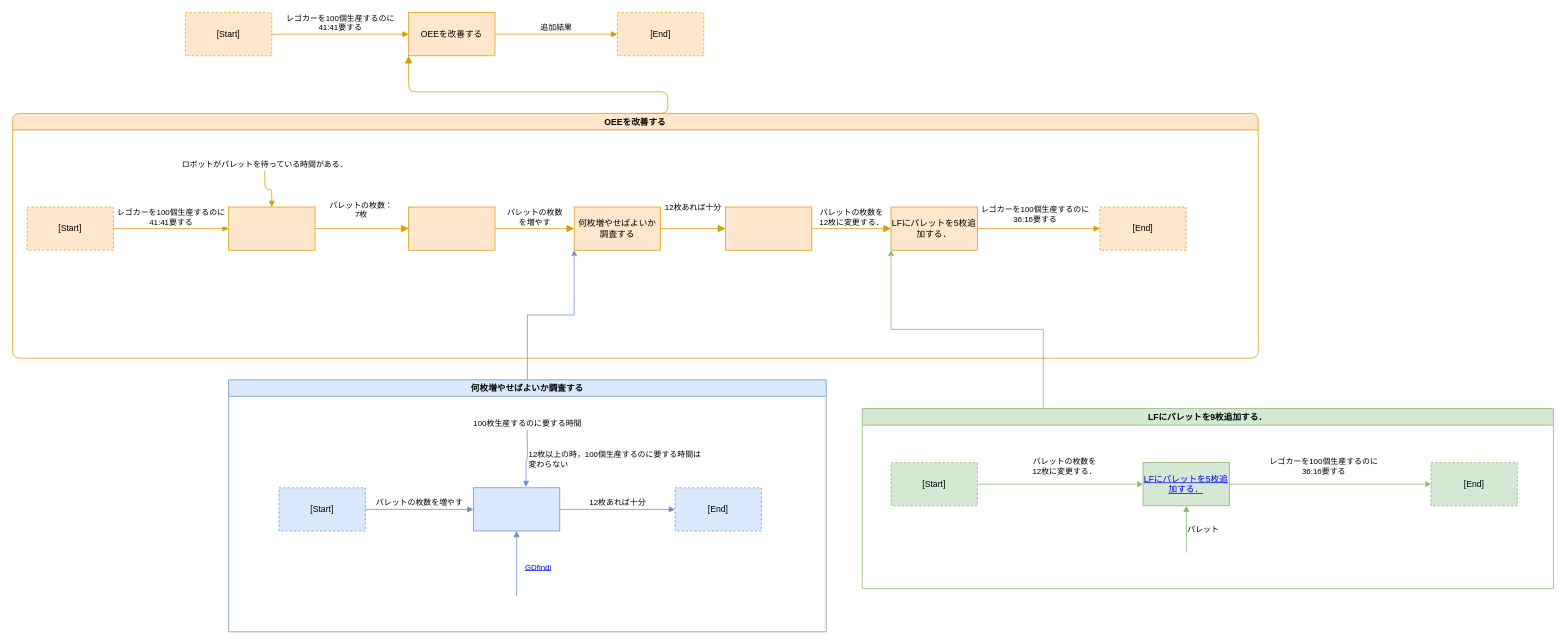
This 1566x644 diagram has some shape labels left out. The shapes that lost their labels are listed below. From the top down, each one's centre as x and y in pixels, then its label:
At point 271,228: "パレットの数を数える".
At point 451,228: "パレットの枚数を十分に増やす".
At point 768,228: "パレットの枚数を12枚にする．".
At point 516,509: "何枚増やせば十分か".
